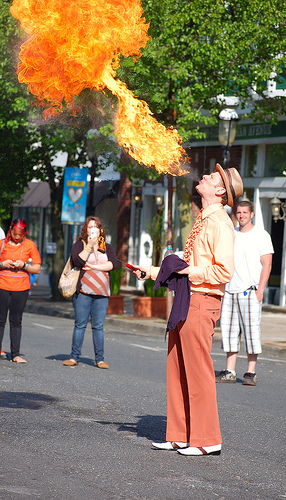fire: (22, 1, 194, 179)
